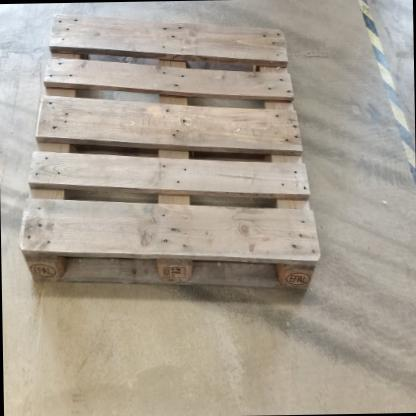BoxFace: (10, 11, 327, 303)
